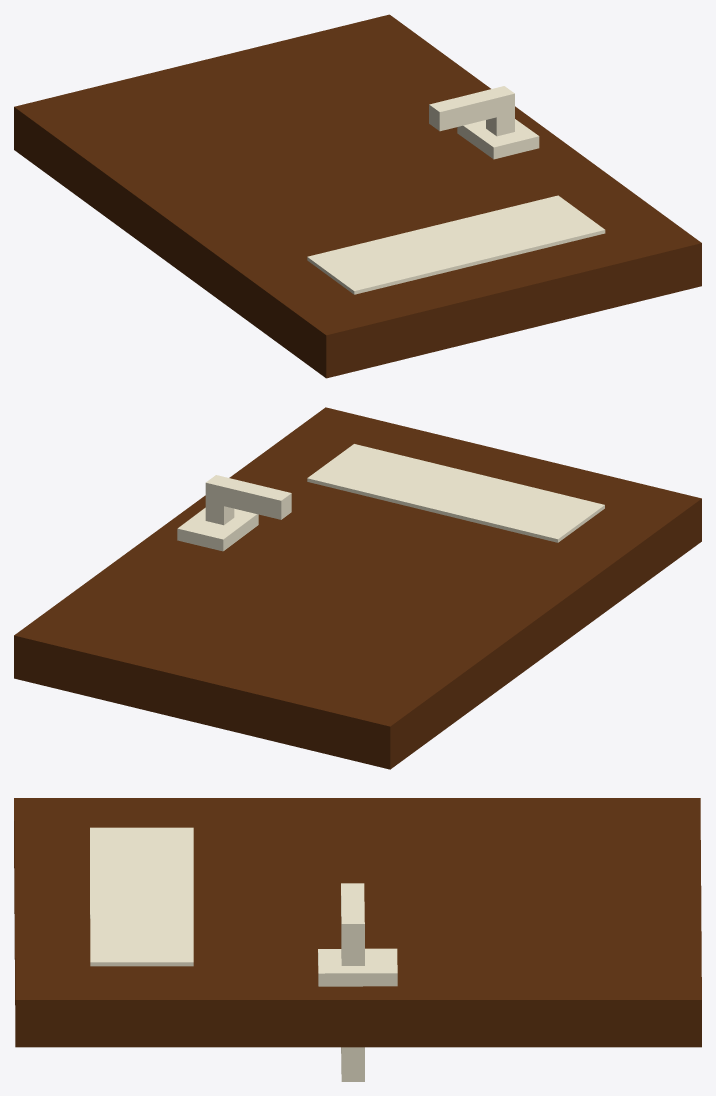
The model's file is Door.fbx.
3 views of the same model, one above another, from view 1: azimuth 30°, elevation 25°; view 2: azimuth 150°, elevation 25°; view 3: azimuth 270°, elevation 25° (orthographic). The views are drawn at different scales.
Visible parts, largest first — view 1: Door; view 2: Door; view 3: Door.
Part boxes in pixels (<box>): Door: <box>14,14,701,378</box>; Door: <box>14,407,701,769</box>; Door: <box>14,798,701,1081</box>.
Bounding box in the file's own units: 64.75 × 23.62 × 93.26.
